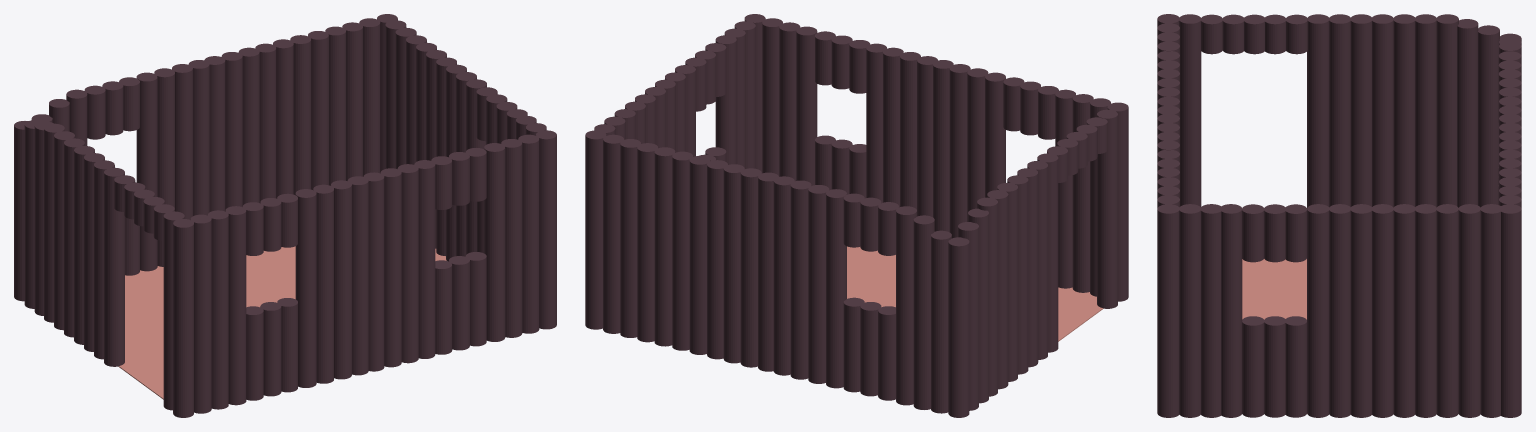
File: Cabin.fbx
The picture shows the model from 3 angles, left to right: view 1: azimuth 30°, elevation 25°; view 2: azimuth 150°, elevation 25°; view 3: azimuth 270°, elevation 25°; orthographic projection. The views are drawn at different scales.
Visible parts, largest first — view 1: Cabin, Cylinder.021, Cylinder.003, Cylinder.014, Cylinder.050, Cylinder.018, Cylinder.019, Cylinder.020, Cylinder, Cylinder.001, Cylinder.009, Cylinder.013 (+61 smaller); view 2: Cabin, Cylinder.022, Cylinder.056, Cylinder.039, Cylinder.031, Cylinder.029, Cylinder.025, Cylinder.034, Cylinder.038, Cylinder.035, Cylinder.040, Cylinder.037 (+61 smaller); view 3: Cylinder, Cylinder.073, Cylinder.067, Cylinder.071, Cylinder.060, Cylinder.072, Cylinder.070, Cylinder.068, Cylinder.069, Cylinder.061, Cylinder.063, Cylinder.043 (+24 smaller).
Part boxes in pixels (left/top/right/bottom): Cabin: left=118, top=246, right=446, bottom=399; Cylinder.021: left=173, top=219, right=193, bottom=417; Cylinder.003: left=484, top=143, right=505, bottom=341; Cylinder.014: left=295, top=189, right=316, bottom=387; Cylinder.050: left=104, top=167, right=124, bottom=366; Cylinder.018: left=225, top=206, right=246, bottom=405; Cylinder.019: left=208, top=210, right=228, bottom=409; Cylinder.020: left=190, top=214, right=211, bottom=413; Cylinder: left=536, top=130, right=556, bottom=329; Cylinder.001: left=518, top=134, right=539, bottom=333; Cylinder.009: left=380, top=168, right=401, bottom=367; Cylinder.013: left=313, top=184, right=333, bottom=383; Cabin: left=847, top=246, right=1103, bottom=341; Cylinder.022: left=948, top=237, right=969, bottom=417; Cylinder.056: left=1097, top=109, right=1117, bottom=308; Cylinder.039: left=654, top=147, right=675, bottom=346; Cylinder.031: left=790, top=180, right=811, bottom=379; Cylinder.029: left=826, top=189, right=846, bottom=388; Cylinder.025: left=896, top=206, right=916, bottom=405; Cylinder.034: left=740, top=168, right=761, bottom=367; Cylinder.038: left=672, top=151, right=692, bottom=350; Cylinder.035: left=723, top=164, right=744, bottom=363; Cylinder.040: left=637, top=143, right=657, bottom=342; Cylinder.037: left=689, top=156, right=710, bottom=354; Cylinder: left=1157, top=204, right=1179, bottom=417; Cylinder.073: left=1436, top=204, right=1458, bottom=417; Cylinder.067: left=1307, top=204, right=1329, bottom=417; Cylinder.071: left=1393, top=204, right=1415, bottom=417; Cylinder.060: left=1458, top=204, right=1480, bottom=417; Cylinder.072: left=1414, top=204, right=1436, bottom=417; Cylinder.070: left=1371, top=204, right=1393, bottom=417; Cylinder.068: left=1329, top=204, right=1350, bottom=417; Cylinder.069: left=1350, top=204, right=1372, bottom=417; Cylinder.061: left=1179, top=204, right=1200, bottom=417; Cylinder.063: left=1220, top=204, right=1242, bottom=417; Cylinder.043: left=1499, top=204, right=1521, bottom=417.
Bounding box in the file's own units: 64614 × 40115 × 83842.
